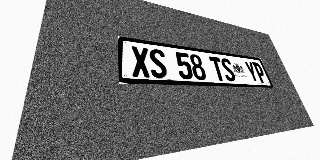5: (175, 52, 194, 80)
8: (188, 54, 207, 80)
P: (252, 62, 268, 83)
S: (148, 48, 168, 78), (219, 58, 237, 82)
T: (209, 56, 226, 81)
X: (131, 46, 151, 78)
Y: (243, 61, 260, 83)
